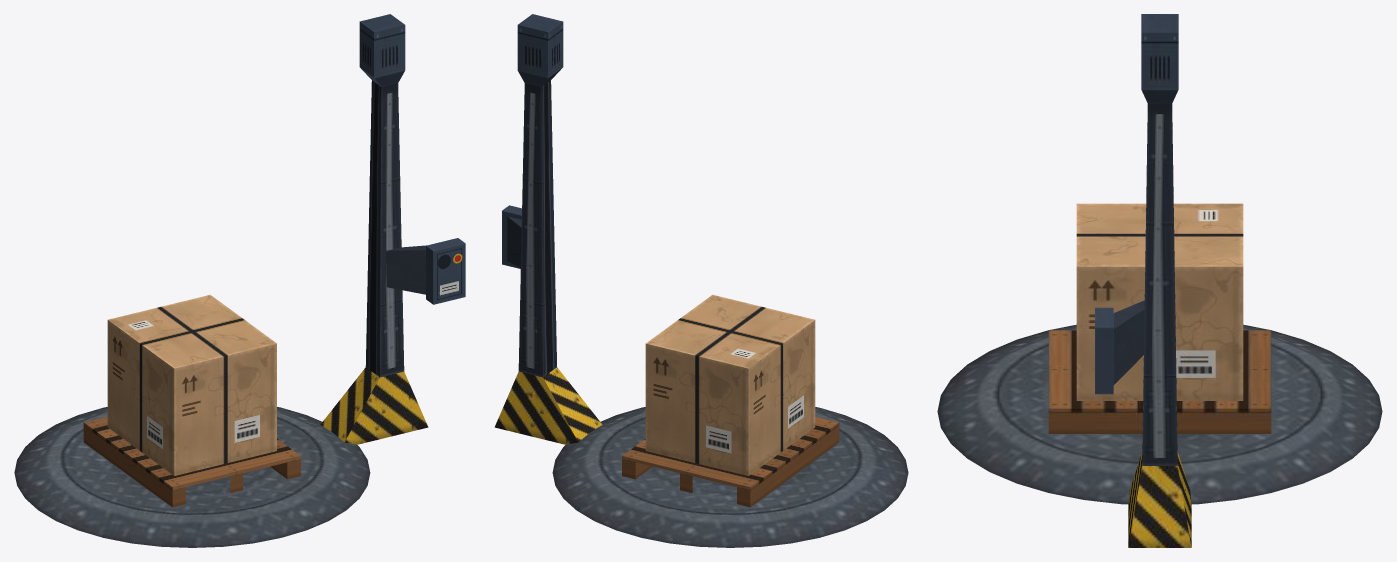
File: yard-stretch-wrap-body-authored-v2.glb
3 renders of one model, left to right at view 1: azimuth 30°, elevation 25°; view 2: azimuth 150°, elevation 25°; view 3: azimuth 270°, elevation 25°, orthographic. The views are drawn at different scales.
Visible parts, largest first — view 1: Yard-stretch-wrap-bodyBody; view 2: Yard-stretch-wrap-bodyBody; view 3: Yard-stretch-wrap-bodyBody.
Boxes of the visible parts, <box> form: Yard-stretch-wrap-bodyBody: <box>14,14,465,547</box>; Yard-stretch-wrap-bodyBody: <box>494,14,908,547</box>; Yard-stretch-wrap-bodyBody: <box>937,14,1382,547</box>.
Bounding box in the file's own units: 3.12 × 3 × 2.4.
1 material, 1 textured.
